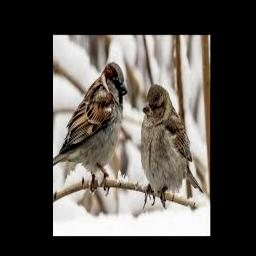Sparrow: (53, 61, 127, 196), (140, 83, 204, 210)
